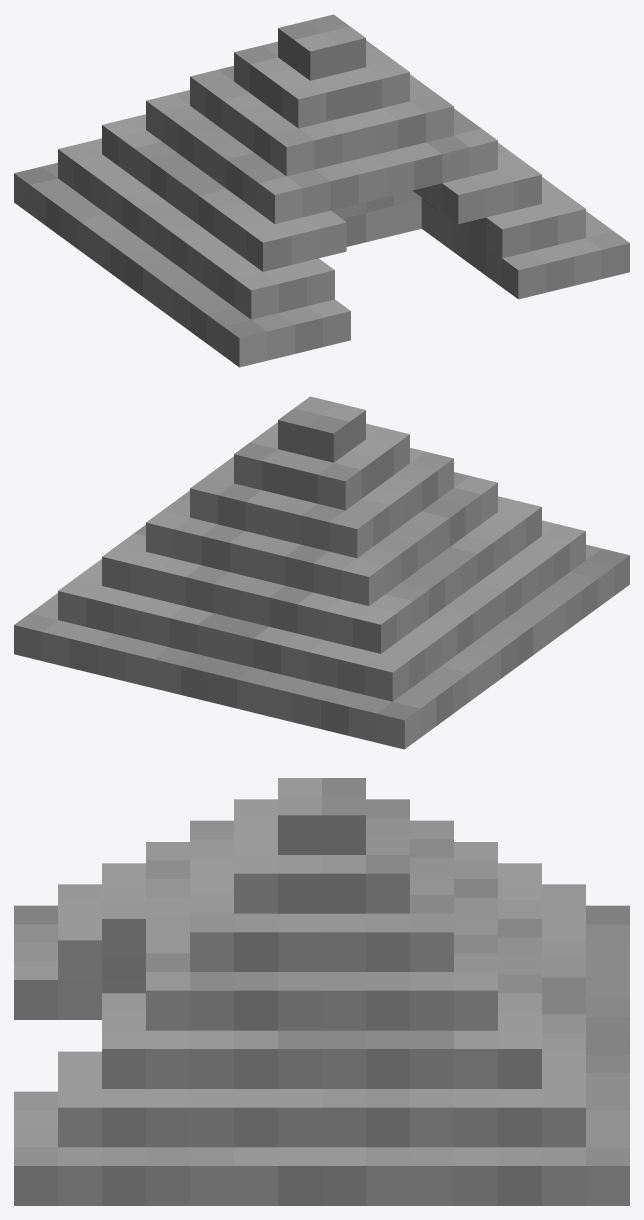
The model's file is ws4tri.obj.
The picture shows the model from 3 angles, top to bottom: view 1: azimuth 30°, elevation 25°; view 2: azimuth 150°, elevation 25°; view 3: azimuth 270°, elevation 25°; orthographic projection. The views are drawn at different scales.
Visible parts, largest first — view 1: Cube.002_Cube.012; view 2: Cube.002_Cube.012; view 3: Cube.002_Cube.012.
Part boxes in pixels (x1,y1,x2,y2): Cube.002_Cube.012: [14, 14, 629, 367]; Cube.002_Cube.012: [14, 396, 629, 749]; Cube.002_Cube.012: [14, 778, 629, 1205].
Bounding box in the file's own units: 0.8727 × 0.4363 × 0.8727.
